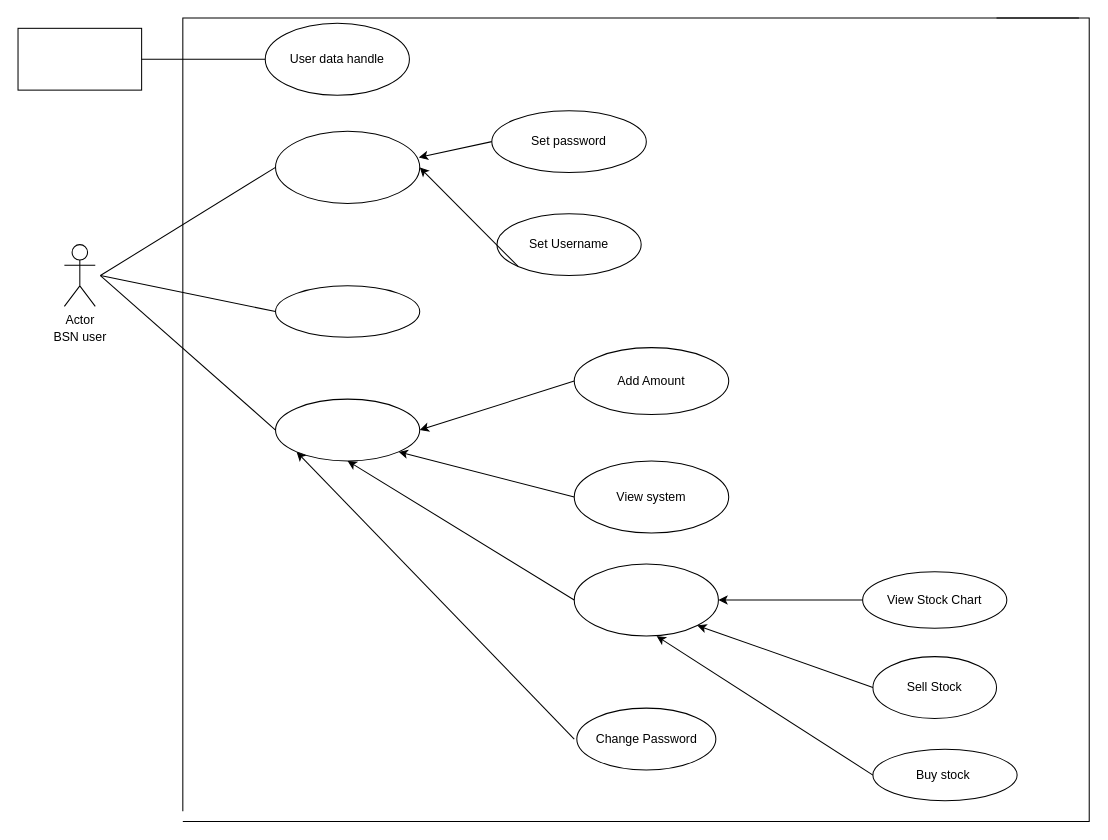
Some shapes in this 1108 by 840 pixel diagram are drawn without their labels. Here are the shapes that lost their labels. From the top down, the box of each, then its label:
(17, 27, 142, 90): BSN database
(274, 130, 420, 203): Create Account
(274, 285, 420, 337): Log out
(274, 398, 420, 461): Login
(573, 563, 718, 636): Stock Dealings
